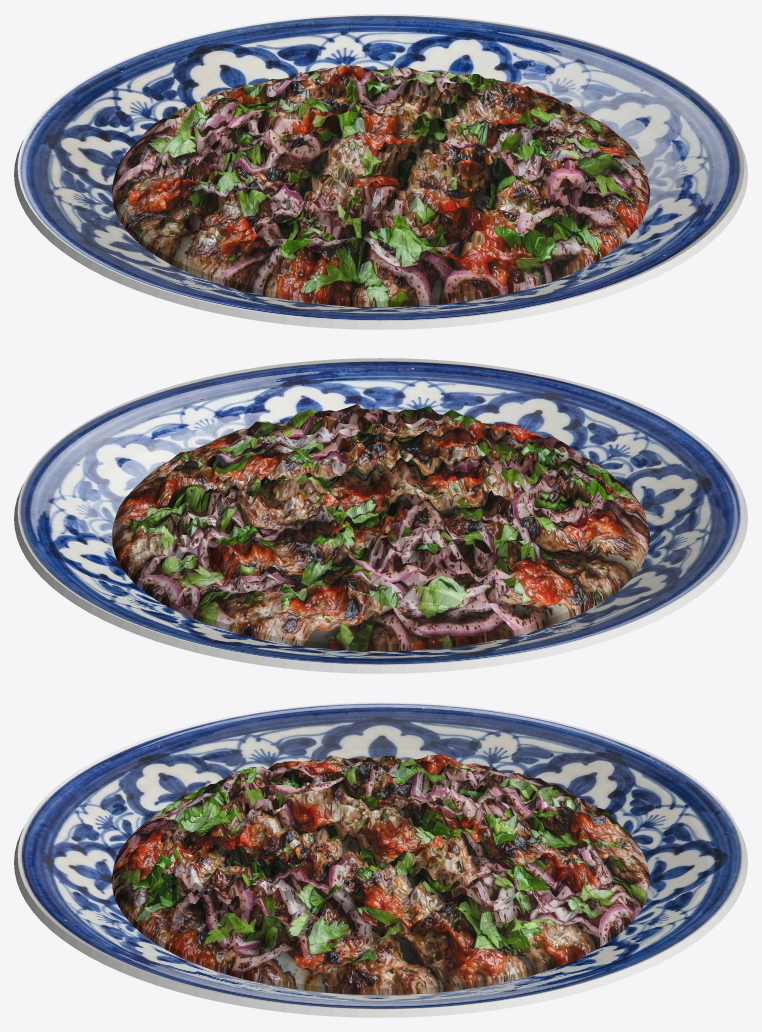
The model's file is lula.glb.
3 views of the same model, one above another, from view 1: azimuth 30°, elevation 25°; view 2: azimuth 150°, elevation 25°; view 3: azimuth 270°, elevation 25° (orthographic).
Parts seen in each view (by area): view 1: lula_2, lula_0, lula_1; view 2: lula_2, lula_0, lula_1; view 3: lula_2, lula_0, lula_1.
Part boxes in pixels (x1,y1,x2,y2): lula_2: (112,65,650,307); lula_0: (17,14,744,321); lula_1: (14,140,747,329); lula_2: (112,404,649,651); lula_0: (17,358,744,665); lula_1: (14,484,747,673); lula_2: (112,754,649,995); lula_0: (17,702,744,1009); lula_1: (14,828,747,1017).
Bounding box in the file's own units: 0.2828 × 0.0363 × 0.2828.
Materials: 3 (2 with a texture image).
